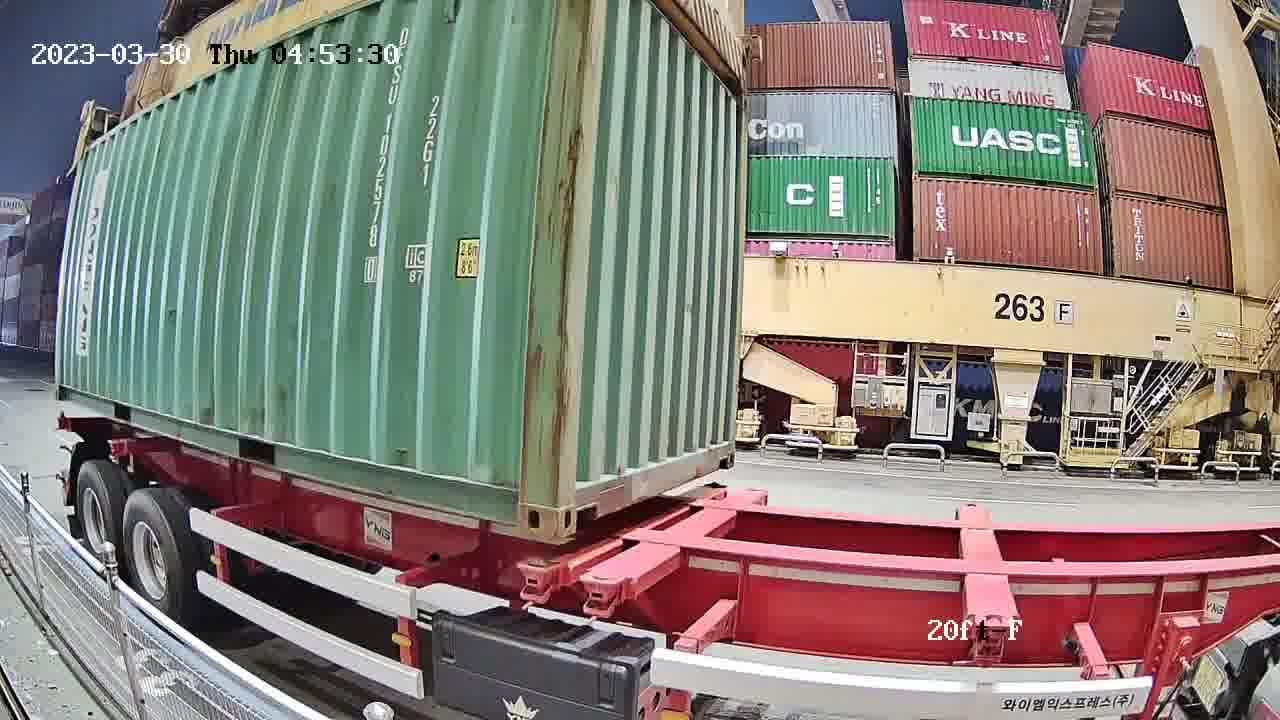Chassis: (576, 488, 768, 596)
Cone: (580, 571, 627, 623), (516, 556, 558, 614)
Hole_L: (555, 465, 606, 536)
Hole_R: (491, 465, 558, 537), (712, 427, 737, 471)
Tire: (123, 493, 185, 623), (75, 463, 118, 571)
